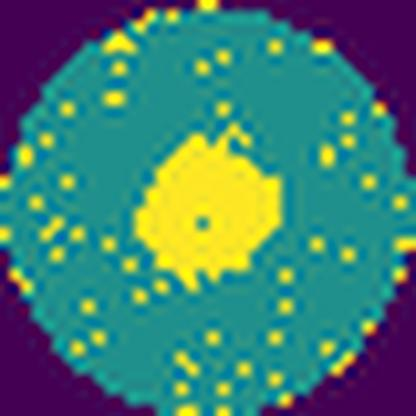Center: (132, 120, 284, 297)
